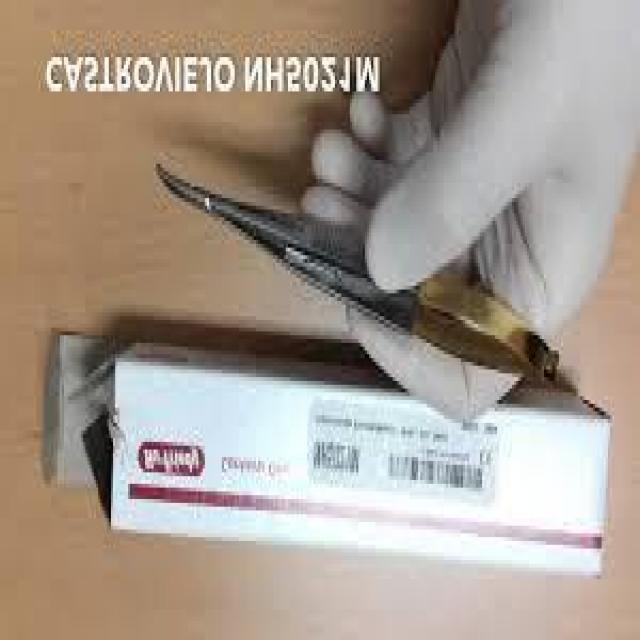Castroviejo: (154, 156, 564, 396)
